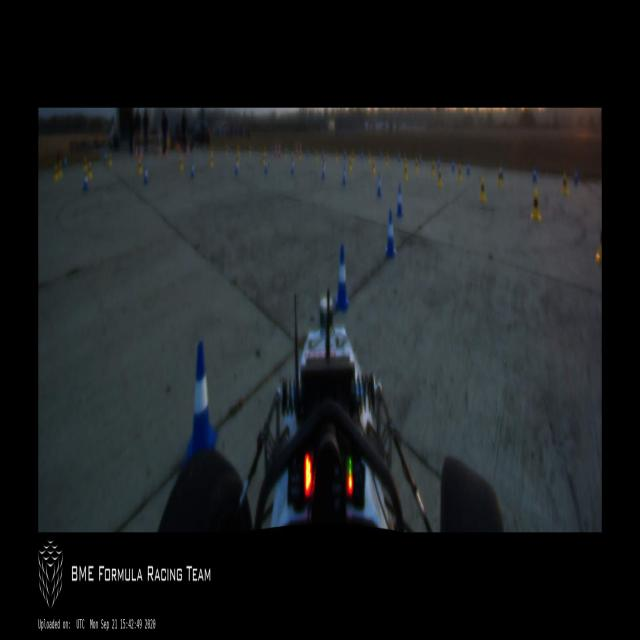blue_cone: (188, 340, 217, 455), (334, 244, 349, 310), (384, 211, 397, 257), (396, 186, 402, 220), (376, 174, 382, 198), (83, 172, 90, 192), (573, 168, 579, 186), (190, 160, 196, 178), (342, 167, 347, 187), (321, 162, 326, 180), (290, 158, 295, 176), (532, 167, 537, 184), (234, 158, 239, 175), (144, 166, 148, 184), (264, 157, 268, 174), (451, 158, 455, 174), (467, 160, 470, 177)
yellow_cone: (530, 190, 540, 222), (479, 178, 486, 202), (561, 174, 569, 195), (497, 167, 503, 188), (437, 169, 443, 188), (54, 162, 59, 182), (58, 158, 63, 178), (403, 165, 408, 183), (179, 156, 184, 172), (138, 157, 142, 176), (88, 161, 92, 180), (458, 165, 462, 183), (414, 158, 418, 174), (83, 157, 87, 172), (372, 158, 375, 176), (210, 149, 213, 167), (431, 161, 434, 177), (349, 157, 352, 172), (109, 153, 112, 167)
